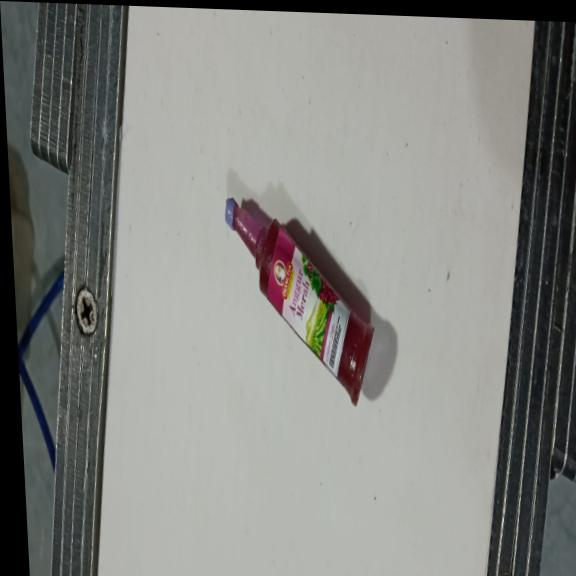Plastik: (222, 195, 379, 407)
